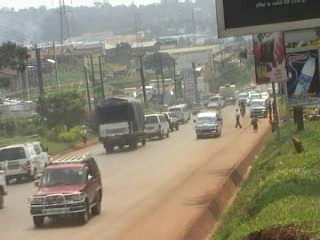Car: (27, 153, 106, 231), (158, 110, 181, 133), (188, 101, 204, 116)
